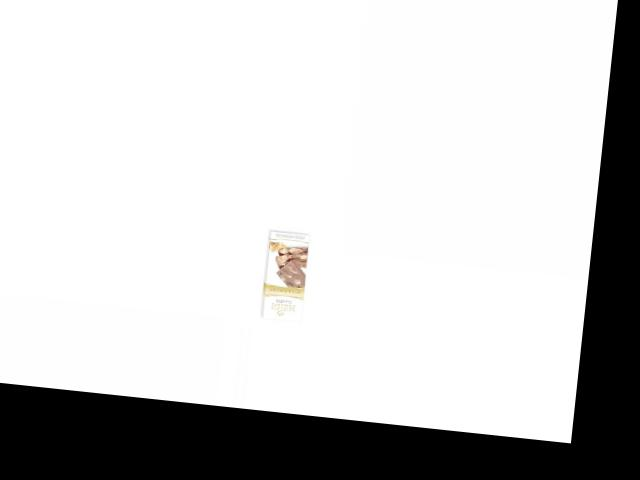chocolate: (251, 229, 319, 328)
